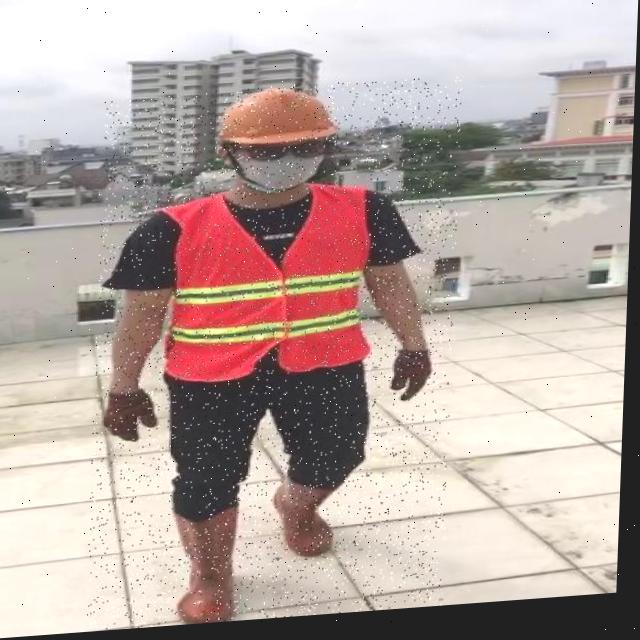Gloves: (104, 389, 161, 445), (392, 353, 435, 409)
Safety-Boot: (174, 504, 243, 629), (273, 478, 340, 564)
Safety-Vest: (153, 183, 378, 390)
